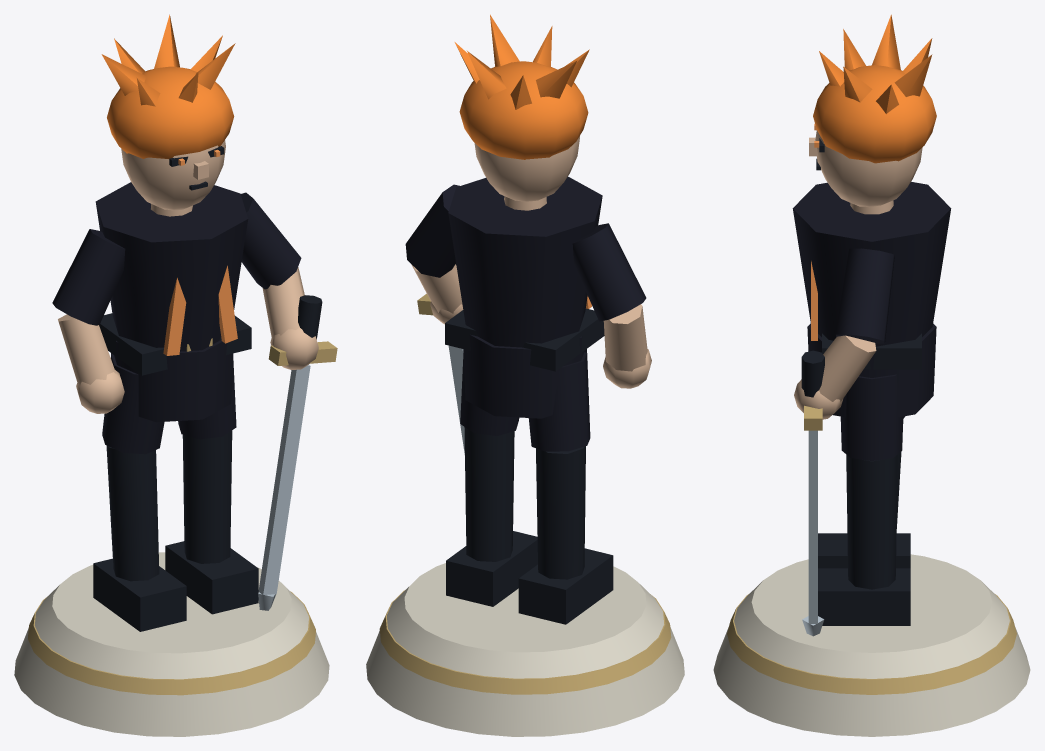
Rendered from ichigo.glb.
3 views of the same model, side by side, from view 1: azimuth 30°, elevation 25°; view 2: azimuth 150°, elevation 25°; view 3: azimuth 270°, elevation 25° (orthographic).
Visible parts, largest first — view 1: Placeholder Ichigo Kurosaki; view 2: Placeholder Ichigo Kurosaki; view 3: Placeholder Ichigo Kurosaki.
Part boxes in pixels (x1=…): Placeholder Ichigo Kurosaki: x1=14, y1=14, x2=337, y2=736; Placeholder Ichigo Kurosaki: x1=366, y1=14, x2=684, y2=736; Placeholder Ichigo Kurosaki: x1=713, y1=14, x2=1030, y2=736.
Bounding box in the file's own units: 0.54 × 1.18 × 0.54.
